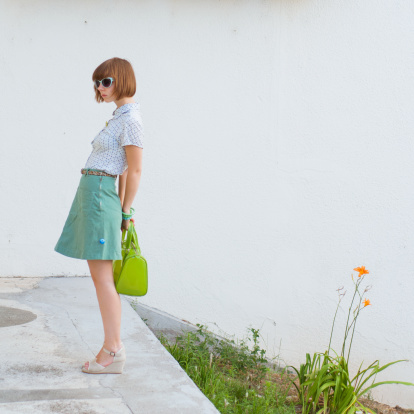em pe: (64, 44, 156, 380)
